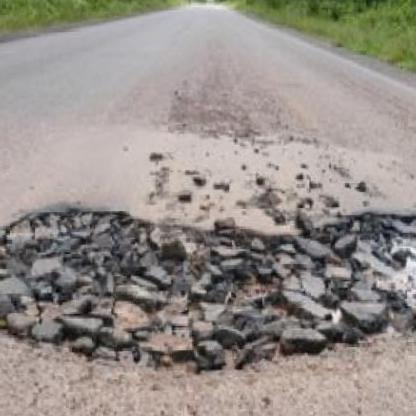pothole: (0, 193, 416, 378)
